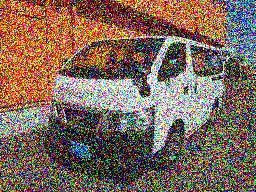van: (47, 35, 225, 177)
